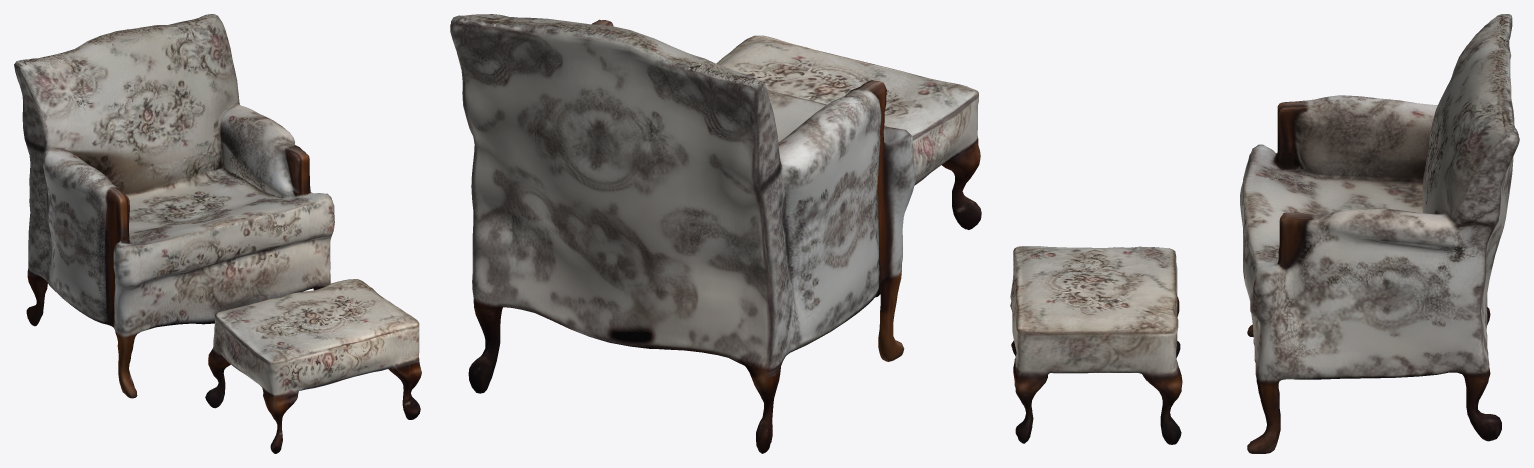
Rendered from Chair_Vintage_Floral_34InchesTall_0222191149_texture.glb.
3 renders of one model, left to right at view 1: azimuth 30°, elevation 25°; view 2: azimuth 150°, elevation 25°; view 3: azimuth 270°, elevation 25°, orthographic. The views are drawn at different scales.
Visible parts, largest first — view 1: Mesh_0; view 2: Mesh_0; view 3: Mesh_0.
Boxes of the visible parts, x1,y1,x2,y2 form: Mesh_0: [14, 14, 421, 453]; Mesh_0: [450, 14, 981, 453]; Mesh_0: [1010, 14, 1519, 453].
Size of the model in its own units: 0.7416 by 0.8636 by 1.21.
1 material, 1 textured.
